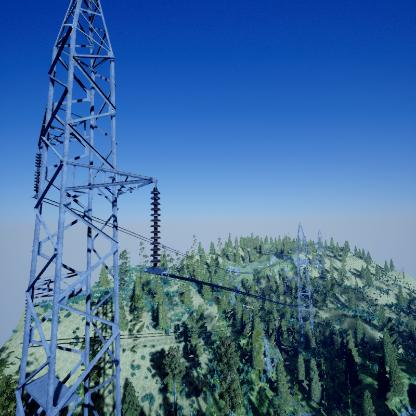insulator: (149, 186, 162, 267), (32, 150, 42, 201)
tower: (282, 222, 326, 339)
